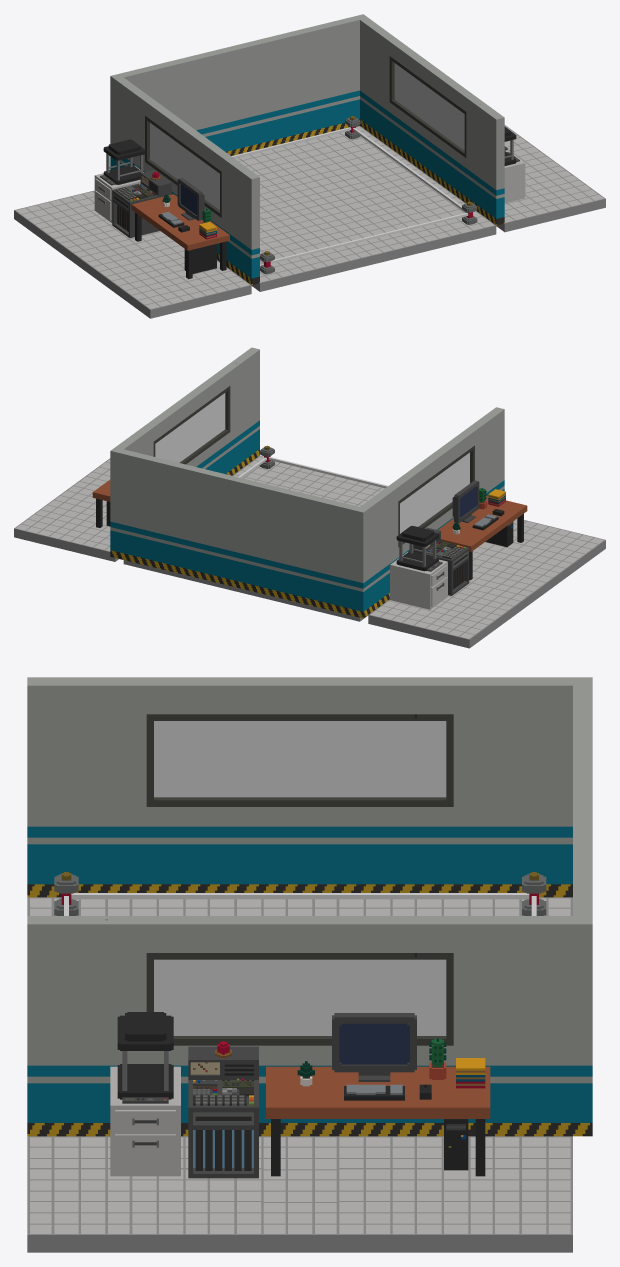
The model's file is scenegame_.fbx.
3 renders of one model, top to bottom at view 1: azimuth 30°, elevation 25°; view 2: azimuth 150°, elevation 25°; view 3: azimuth 270°, elevation 25°, orthographic. The views are drawn at different scales.
Visible parts, largest first — view 1: model_22.003, model_22.002, model_38, model_37, model_22, model_23.002, model_23.003, model_21, model_17.001, model_21.001, model_22.001, model_6.001 (+77 smaller); view 2: model_39, model_37, model_22.003, model_23, model_23.003, model_22.002, model_38, model_6.001, model_21.001, model_21, model_22, model_23.001 (+42 smaller); view 3: model_21.001, model_21, model_22, model_22.001, model_23.002, model_23.001, model_40, model_26.001, model_25.001, model_28.001, model_27.001, model_6 (+41 smaller).
Part boxes in pixels (x1=…): model_22.003: x1=288, y1=24, x2=326, y2=140; model_22.002: x1=254, y1=32, x2=292, y2=149; model_38: x1=220, y1=41, x2=258, y2=155; model_37: x1=321, y1=14, x2=367, y2=132; model_22: x1=476, y1=103, x2=504, y2=225; model_23.002: x1=232, y1=163, x2=259, y2=285; model_23.003: x1=186, y1=49, x2=224, y2=151; model_21: x1=394, y1=63, x2=464, y2=150; model_17.001: x1=131, y1=194, x2=229, y2=279; model_21.001: x1=150, y1=123, x2=219, y2=209; model_22.001: x1=360, y1=18, x2=387, y2=139; model_6.001: x1=94, y1=139, x2=145, y2=222; model_39: x1=321, y1=499, x2=368, y2=618; model_37: x1=110, y1=447, x2=156, y2=566; model_22.003: x1=152, y1=457, x2=190, y2=574; model_23: x1=287, y1=490, x2=325, y2=607; model_23.003: x1=253, y1=482, x2=291, y2=599; model_22.002: x1=186, y1=466, x2=224, y2=583; model_38: x1=220, y1=474, x2=257, y2=591; model_6.001: x1=390, y1=525, x2=447, y2=609; model_21.001: x1=400, y1=452, x2=469, y2=533; model_21: x1=155, y1=393, x2=225, y2=462; model_22: x1=232, y1=347, x2=259, y2=469; model_23.001: x1=360, y1=493, x2=387, y2=614; model_21.001: x1=154, y1=721, x2=446, y2=797; model_21: x1=154, y1=959, x2=446, y2=1035; model_22: x1=27, y1=916, x2=105, y2=1136; model_22.001: x1=495, y1=916, x2=572, y2=1136; model_23.002: x1=27, y1=677, x2=105, y2=897; model_23.001: x1=495, y1=677, x2=572, y2=897; model_40: x1=105, y1=677, x2=183, y2=892; model_26.001: x1=417, y1=677, x2=494, y2=892; model_25.001: x1=183, y1=677, x2=261, y2=892; model_28.001: x1=261, y1=677, x2=339, y2=892; model_27.001: x1=339, y1=677, x2=416, y2=892; model_6: x1=110, y1=1012, x2=180, y2=1176.
Size of the model in its own units: 3024 by 1624 by 728.
